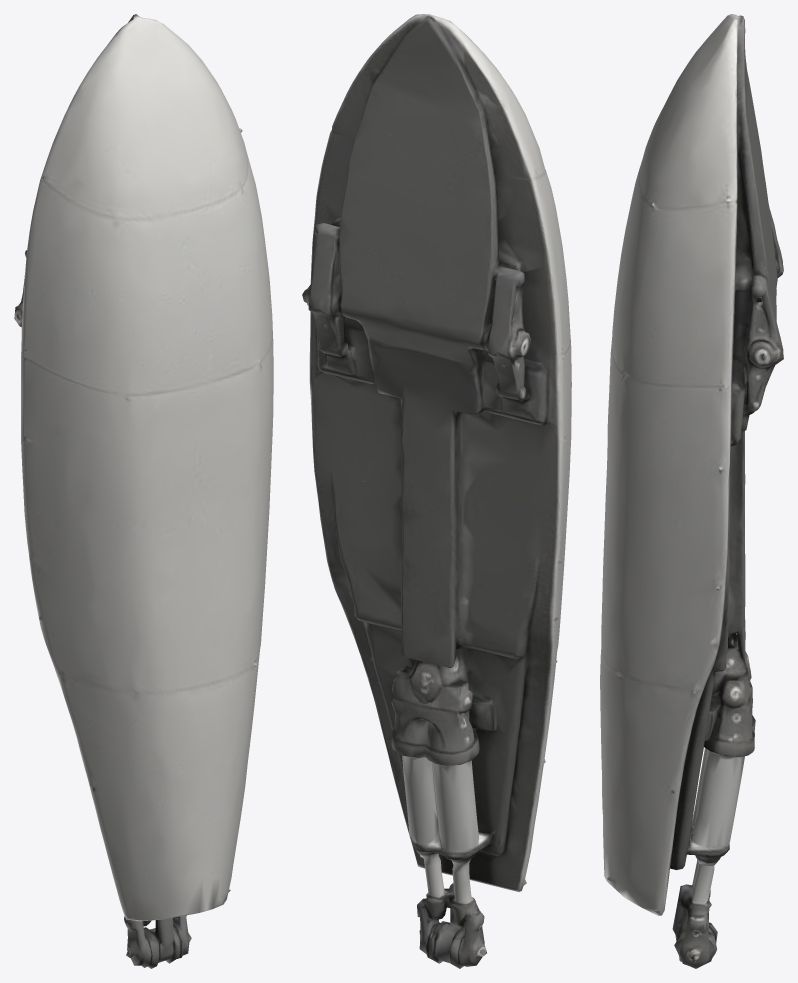
File: fin.glb
The picture shows the model from 3 angles, left to right: view 1: azimuth 30°, elevation 25°; view 2: azimuth 150°, elevation 25°; view 3: azimuth 270°, elevation 25°; orthographic projection. The views are drawn at different scales.
Visible parts, largest first — view 1: tripo_node_e313908e-60f9-4ead-981b-0b85f76ce83e; view 2: tripo_node_e313908e-60f9-4ead-981b-0b85f76ce83e; view 3: tripo_node_e313908e-60f9-4ead-981b-0b85f76ce83e.
Part boxes in pixels (left/top/right/bottom): tripo_node_e313908e-60f9-4ead-981b-0b85f76ce83e: left=14, top=14, right=273, bottom=968; tripo_node_e313908e-60f9-4ead-981b-0b85f76ce83e: left=302, top=14, right=571, bottom=968; tripo_node_e313908e-60f9-4ead-981b-0b85f76ce83e: left=600, top=14, right=783, bottom=968.
Bounding box in the file's own units: 0.2774 × 1 × 0.1762.
1 material, 1 textured.
